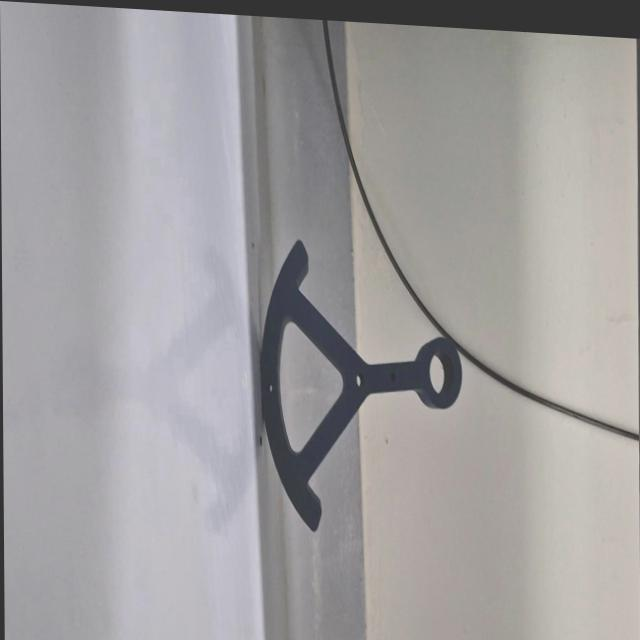haptic: (260, 235, 464, 541)
